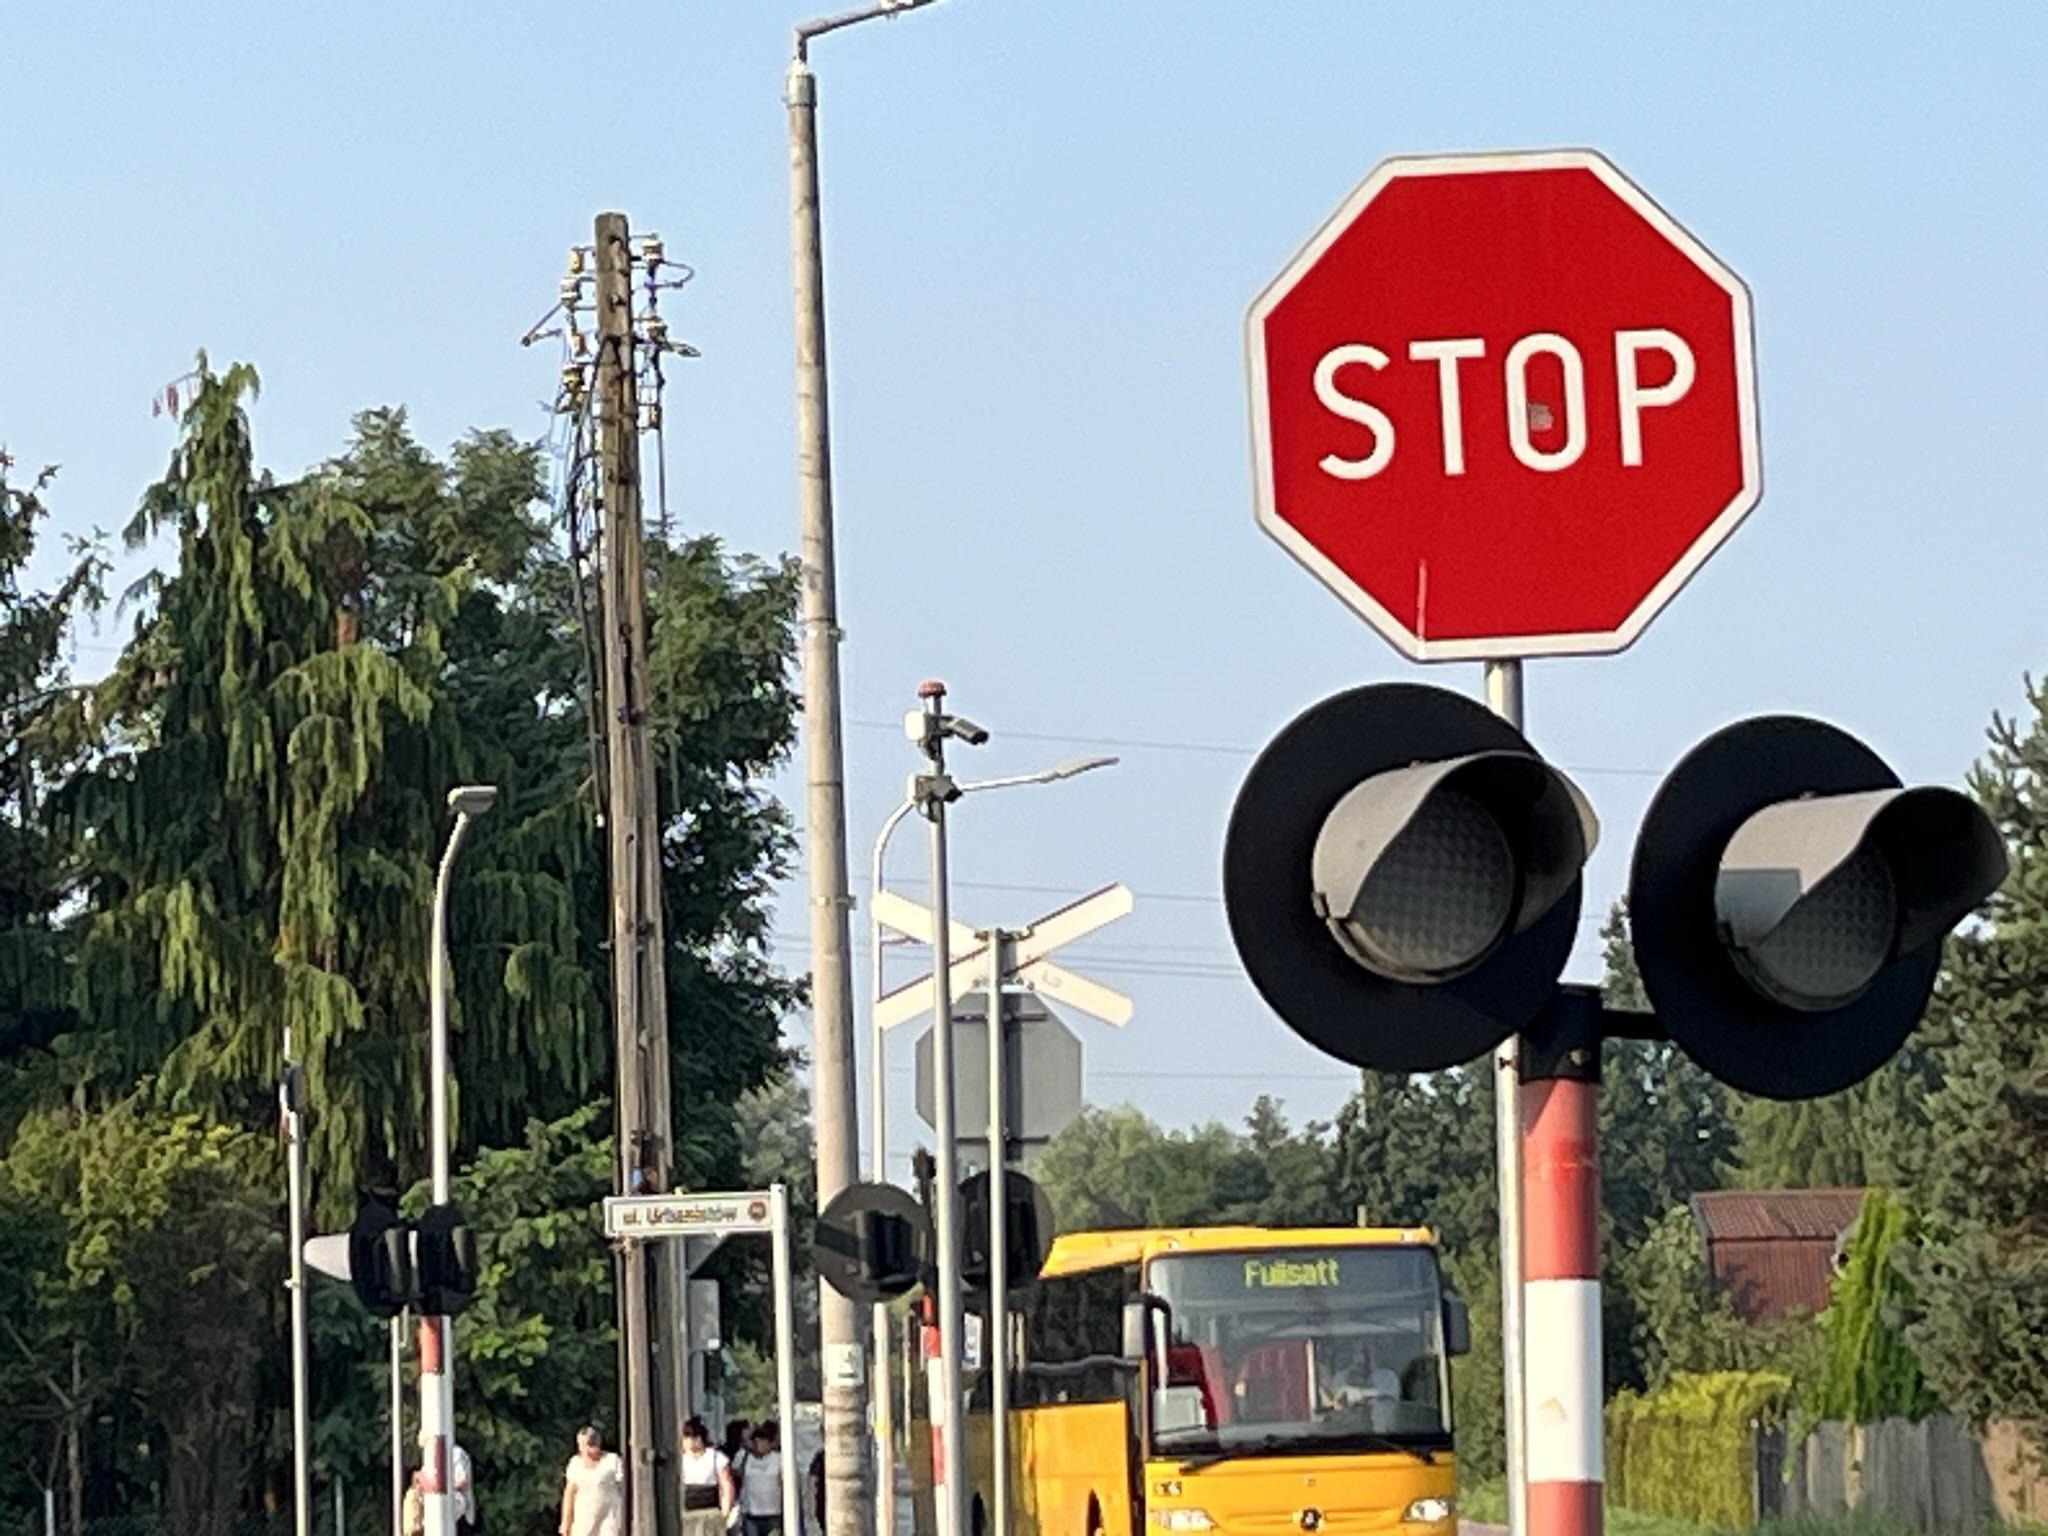prohibitory: (1245, 142, 1766, 660)
